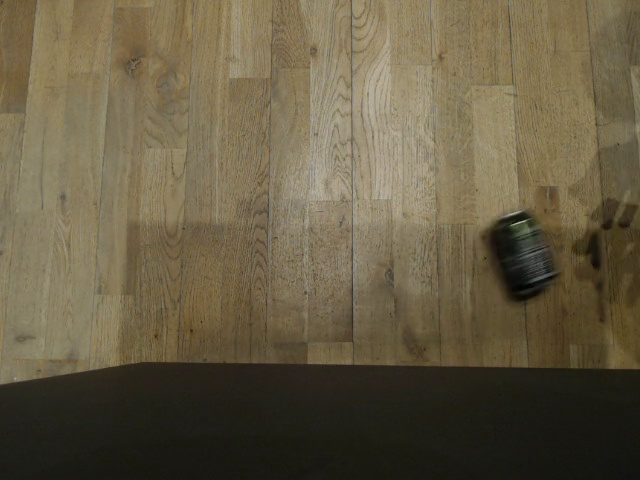beer: (477, 207, 575, 298)
